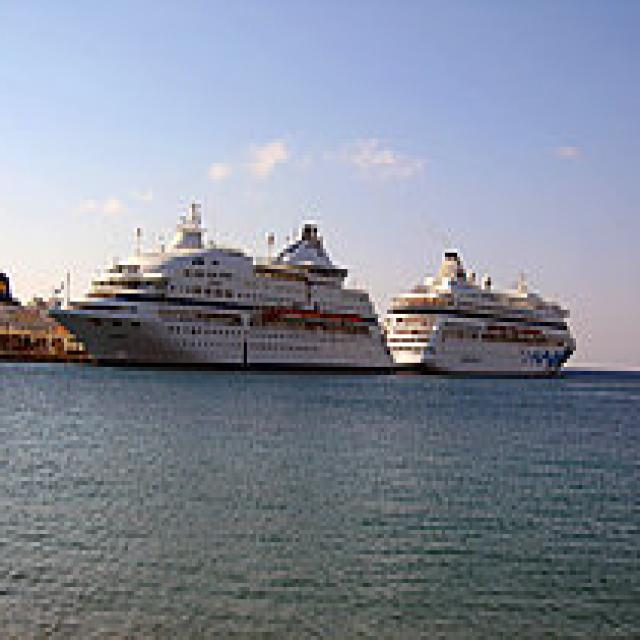Cruise: (43, 196, 396, 367), (387, 245, 582, 379)
